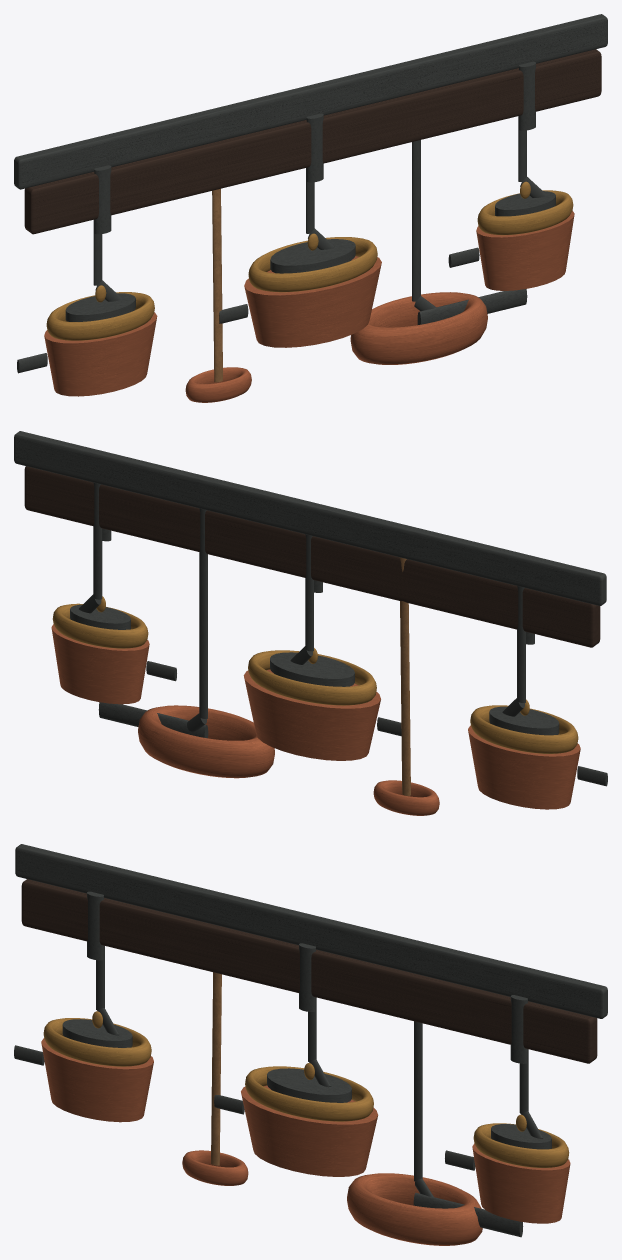
File: hanging_pots.glb
3 views of the same model, one above another, from view 1: azimuth 30°, elevation 25°; view 2: azimuth 150°, elevation 25°; view 3: azimuth 330°, elevation 25° (orthographic).
Parts seen in each view (by area): view 1: hanging_pots; view 2: hanging_pots; view 3: hanging_pots.
Part boxes in pixels (box(x1,y1,x2,y2)): hanging_pots: box(14, 14, 607, 402); hanging_pots: box(14, 431, 607, 815); hanging_pots: box(14, 844, 607, 1245).
Size of the model in its own units: 2.6 by 1.2 by 0.3.
1 material, 1 textured.
